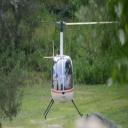helicopter: (41, 22, 118, 120)
